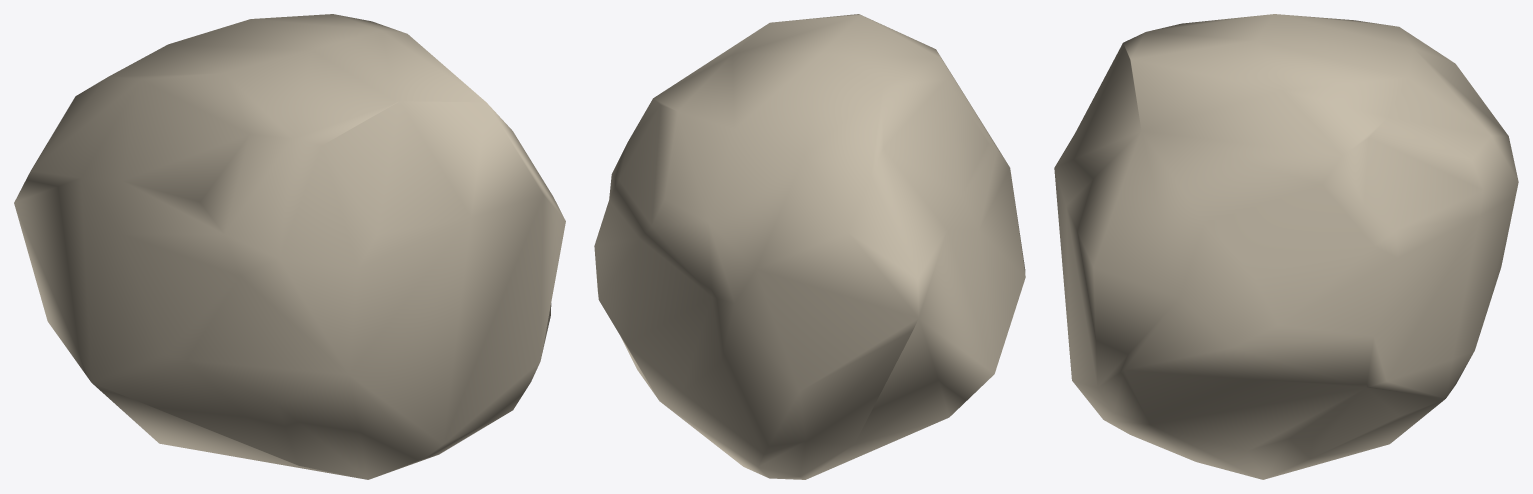
Rendered from itch_assetquest_pond_rock_2c.glb.
The picture shows the model from 3 angles, left to right: view 1: azimuth 30°, elevation 25°; view 2: azimuth 150°, elevation 25°; view 3: azimuth 270°, elevation 25°; orthographic projection. The views are drawn at different scales.
Parts seen in each view (by area): view 1: Rock_2c; view 2: Rock_2c; view 3: Rock_2c.
Part boxes in pixels (bbox=[...]): Rock_2c: bbox=[14, 14, 565, 479]; Rock_2c: bbox=[594, 14, 1025, 479]; Rock_2c: bbox=[1054, 14, 1518, 479].
Size of the model in its own units: 1.18 by 1.11 by 1.16.
